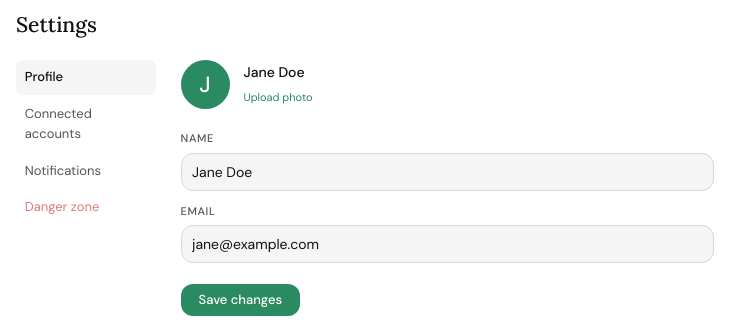
UserSettings › clicking 'Danger zone' tab shows delete section
Click the button "Danger zone" at (86, 208), box [16,190,156,225]
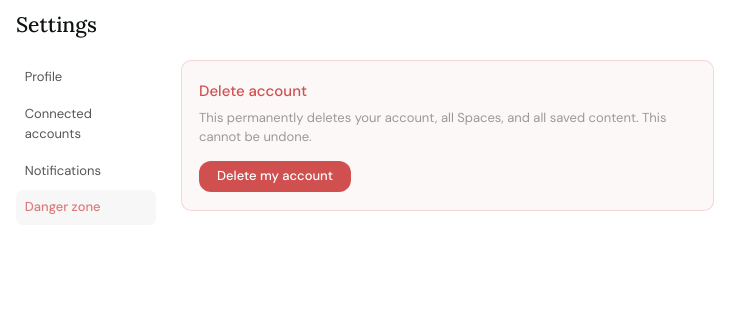
Now the heading "Delete account" is shown, box [199,80,307,100]
Now the text "permanently deletes your account" is shown, box [199,109,666,145]
